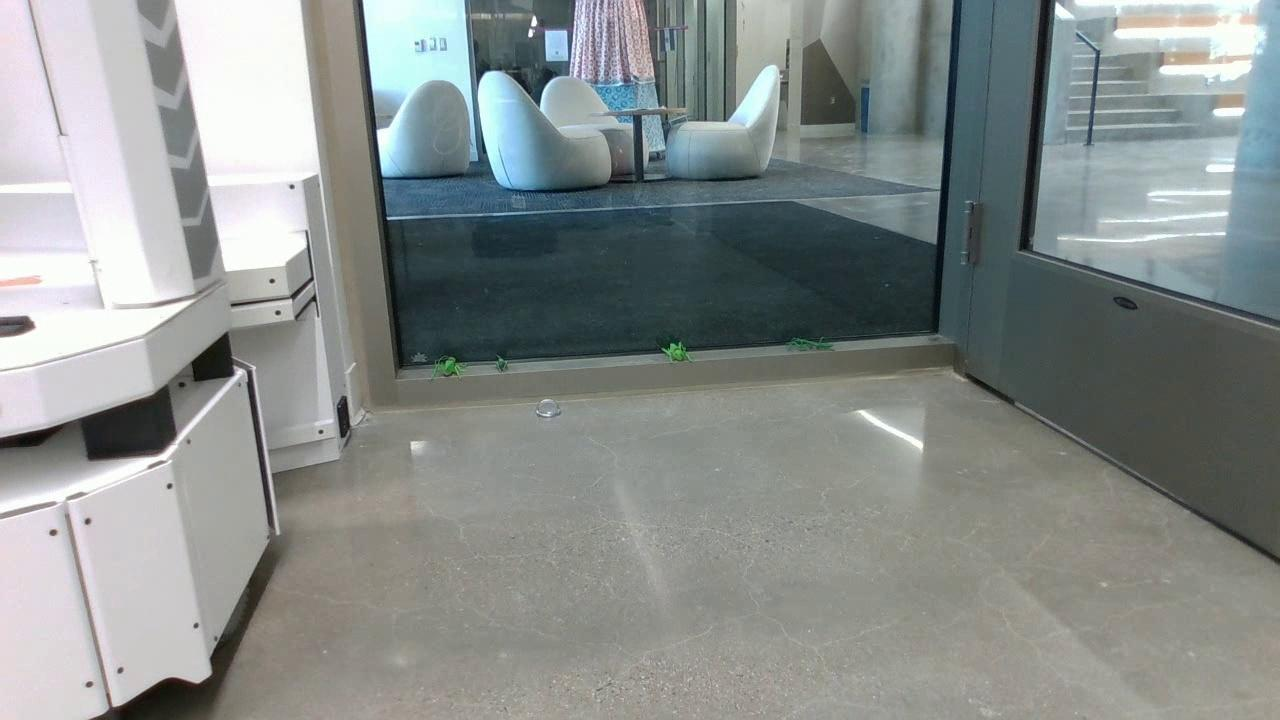grasshopper: (430, 357, 465, 379), (661, 341, 693, 363)
